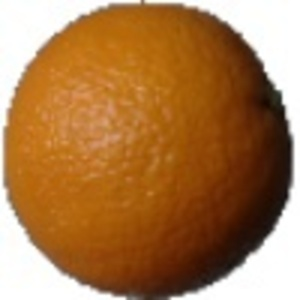laranja: (3, 4, 297, 298)
